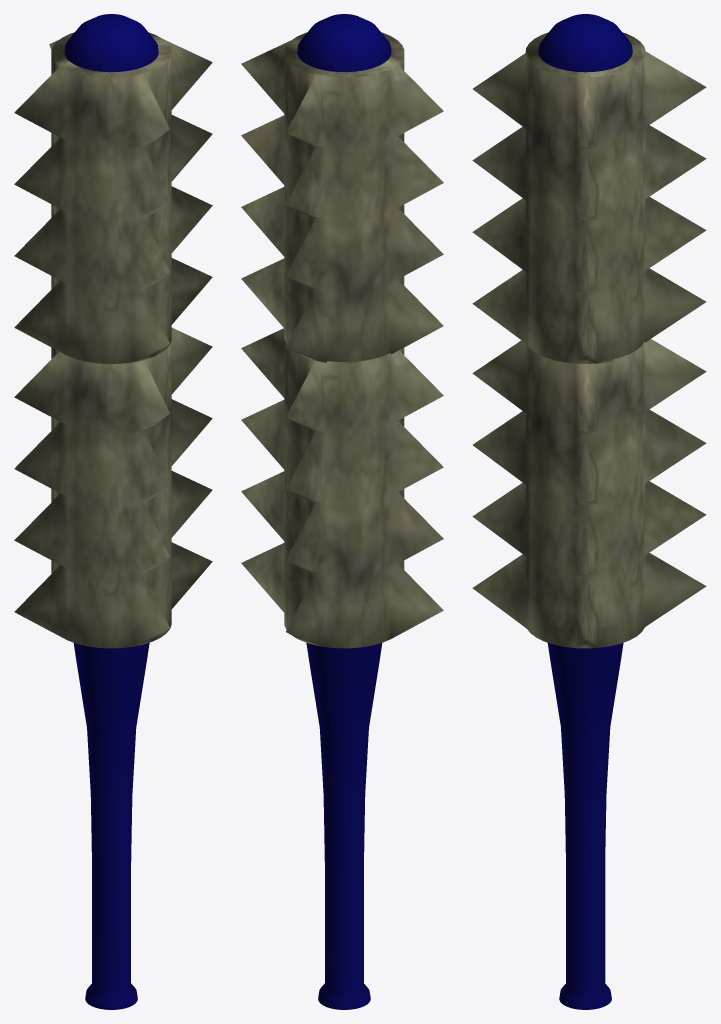
The picture shows the model from 3 angles, left to right: view 1: azimuth 30°, elevation 25°; view 2: azimuth 150°, elevation 25°; view 3: azimuth 270°, elevation 25°; orthographic projection.
Parts seen in each view (by area): view 1: grip_normal.007, grip_normal.008, Cylinder.002; view 2: grip_normal.007, grip_normal.008, Cylinder.002; view 3: grip_normal.007, grip_normal.008, Cylinder.002.
Part boxes in pixels (x1,y1,x2,y2): grip_normal.007: [14, 32, 212, 363]; grip_normal.008: [14, 327, 212, 648]; Cylinder.002: [64, 14, 158, 1009]; grip_normal.007: [241, 32, 443, 363]; grip_normal.008: [241, 328, 443, 648]; Cylinder.002: [297, 14, 391, 1009]; grip_normal.007: [472, 32, 706, 363]; grip_normal.008: [472, 339, 706, 648]; Cylinder.002: [538, 14, 632, 1009].
Size of the model in its own units: 0.1233 by 0.5728 by 0.1246.
Materials: 2 (2 with a texture image).
